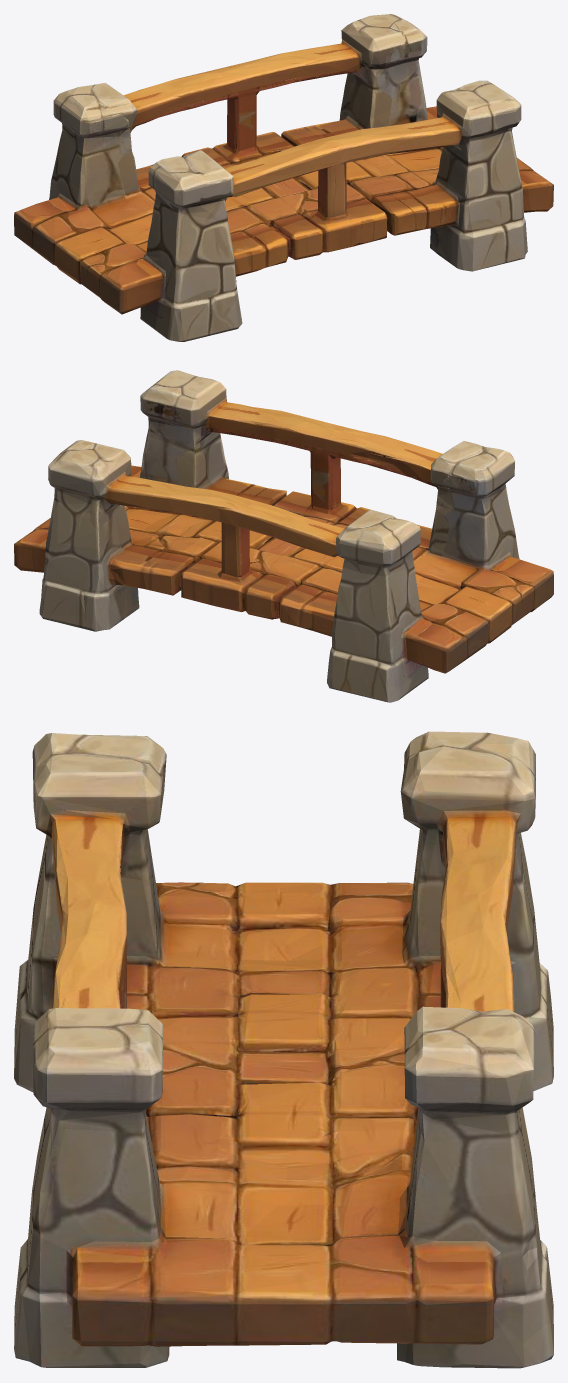
File: bridge_stone_rustic_b_lod0.glb
3 views of the same model, one above another, from view 1: azimuth 30°, elevation 25°; view 2: azimuth 150°, elevation 25°; view 3: azimuth 270°, elevation 25° (orthographic). The views are drawn at different scales.
Visible parts, largest first — view 1: bridge_stone_rustic_b_lod0; view 2: bridge_stone_rustic_b_lod0; view 3: bridge_stone_rustic_b_lod0.
Boxes of the visible parts, <box> form: bridge_stone_rustic_b_lod0: <box>14,14,553,341</box>; bridge_stone_rustic_b_lod0: <box>14,370,553,702</box>; bridge_stone_rustic_b_lod0: <box>14,731,553,1368</box>.
Size of the model in its own units: 3.99 by 1.39 by 2.19.
Materials: 1 (1 with a texture image).
